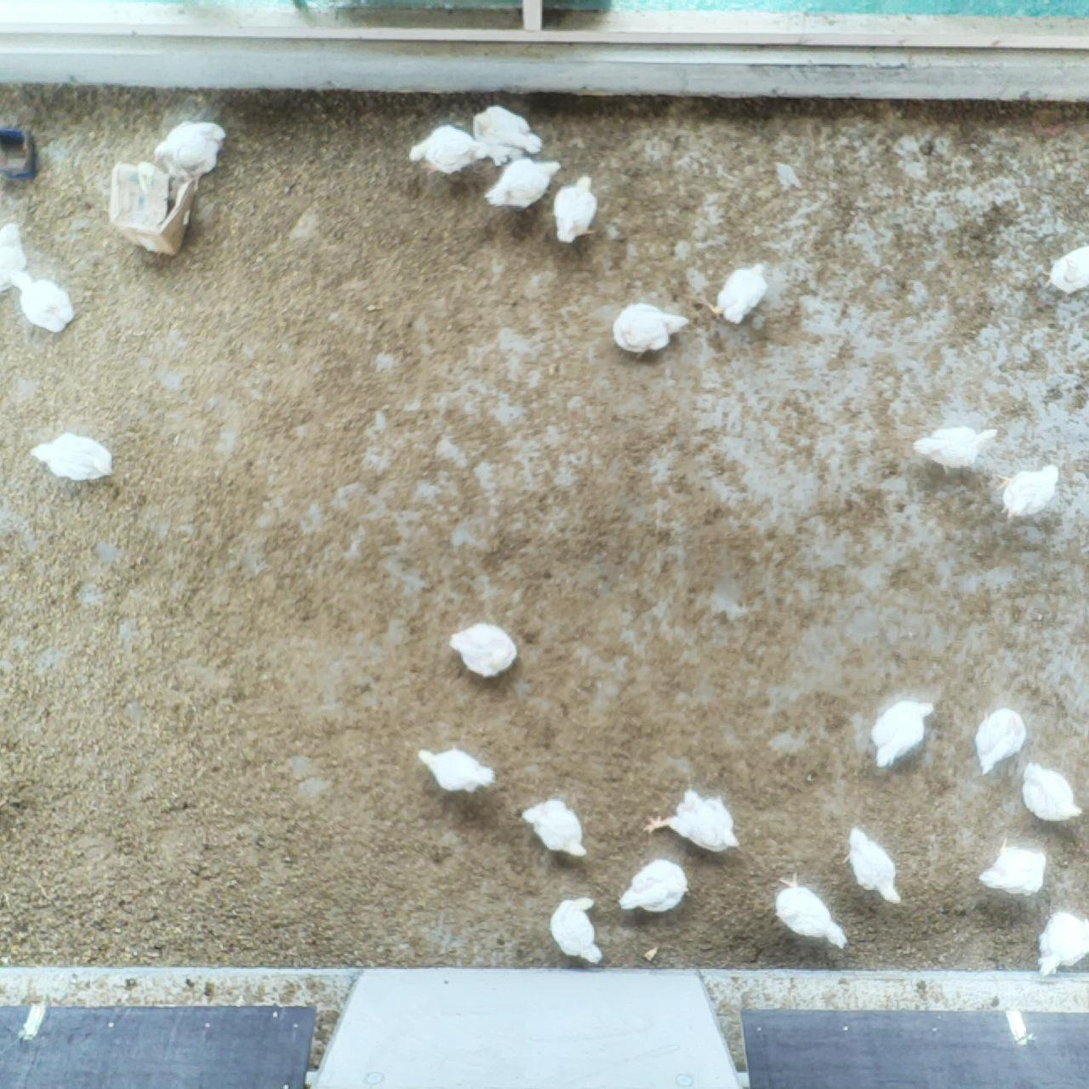chicken: (647, 787, 741, 855), (776, 873, 848, 949), (611, 301, 693, 359), (848, 829, 907, 908), (871, 701, 937, 771), (700, 261, 771, 325), (155, 119, 226, 181), (472, 104, 543, 166), (9, 270, 77, 334), (482, 157, 563, 209), (410, 124, 489, 177), (30, 431, 115, 480), (913, 425, 998, 473), (996, 463, 1060, 525), (981, 837, 1048, 896), (523, 798, 587, 859), (1023, 761, 1085, 823), (619, 858, 688, 913), (449, 624, 519, 677), (418, 746, 495, 793), (553, 894, 603, 965), (551, 174, 600, 244), (976, 708, 1025, 776), (1041, 911, 1089, 976), (1044, 245, 1089, 298), (0, 221, 26, 288)
